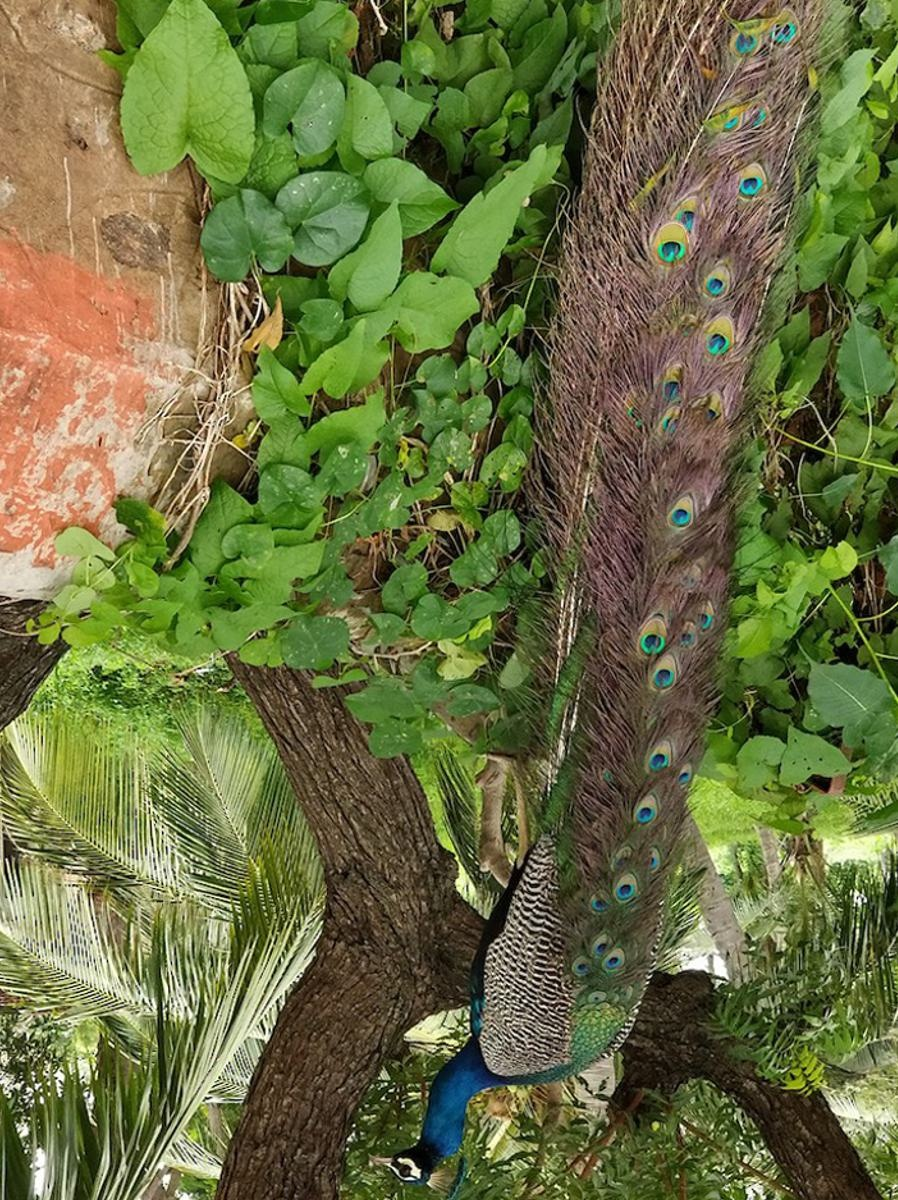peacock: (372, 1, 830, 1192)
